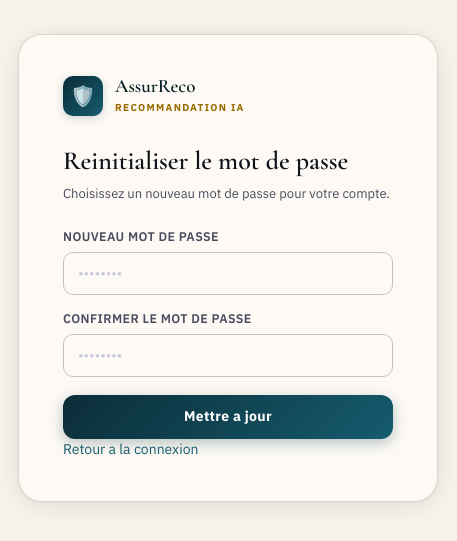
Test case: ResetPassword › submits form successfully
Type "password123" into the password field with placeholder "••••••••".
click(228, 273); type("password123")  # box [63, 252, 393, 294]
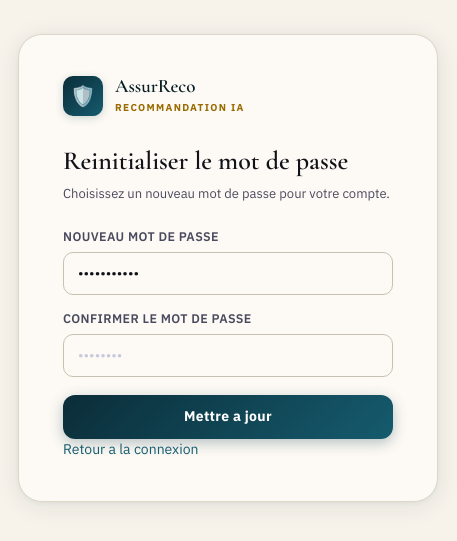
Type "password123" into the password field with placeholder "••••••••".
click(228, 355); type("password123")  # box [63, 334, 393, 376]
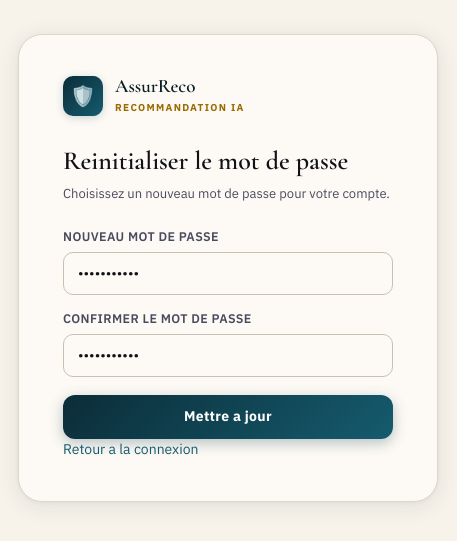
Click the button "Mettre a jour".
click(228, 416)  # box [63, 394, 393, 438]
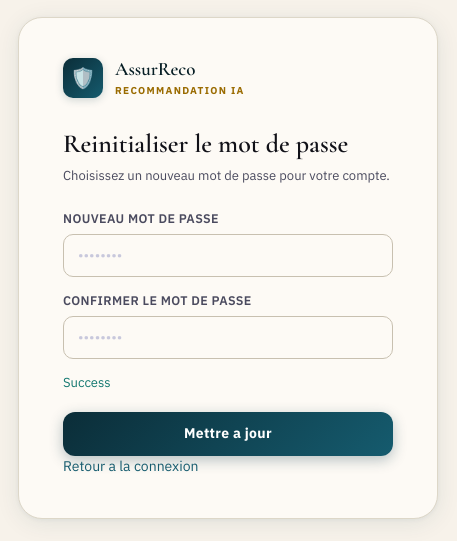
Check: the text "Success" is shown, box [63, 373, 111, 392]
